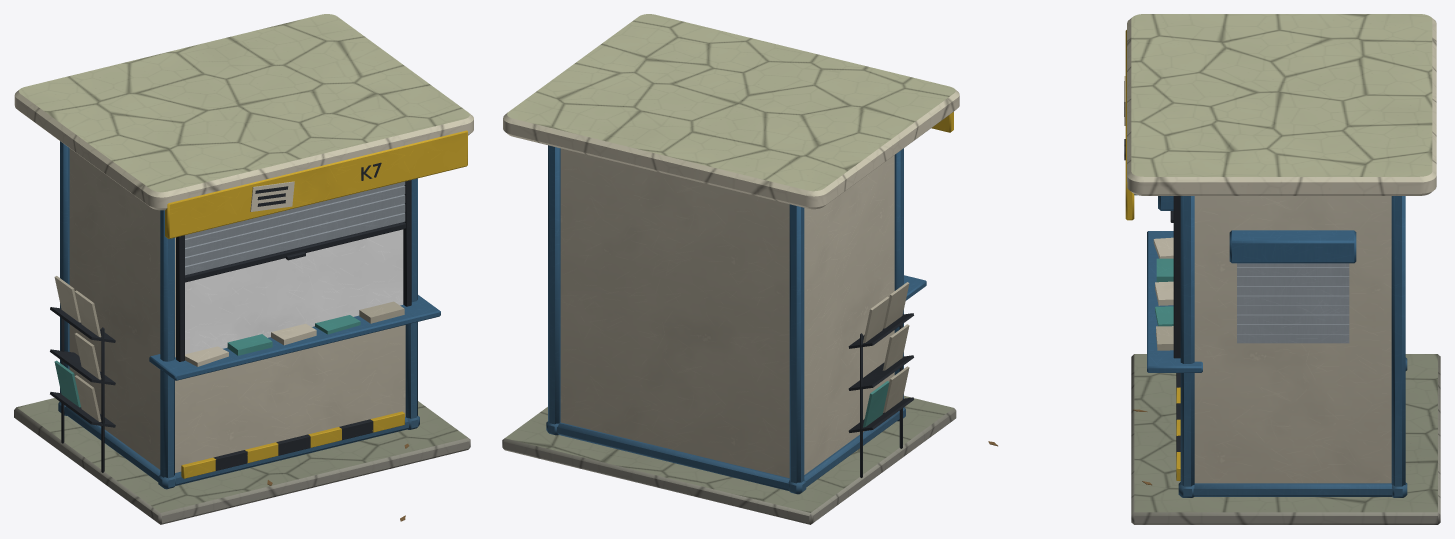
File: newspaper_kiosk.glb
3 renders of one model, left to right at view 1: azimuth 30°, elevation 25°; view 2: azimuth 150°, elevation 25°; view 3: azimuth 270°, elevation 25°, orthographic. The views are drawn at different scales.
Parts seen in each view (by area): view 1: newspaper_kiosk; view 2: newspaper_kiosk; view 3: newspaper_kiosk.
Boxes of the visible parts, x1,y1,x2,y2 form: newspaper_kiosk: (14,14,473,524); newspaper_kiosk: (502,14,959,524); newspaper_kiosk: (988,14,1440,524).
Bounding box in the file's own units: 2.86 × 2.75 × 3.22.
Materials: 14 (14 with a texture image).
